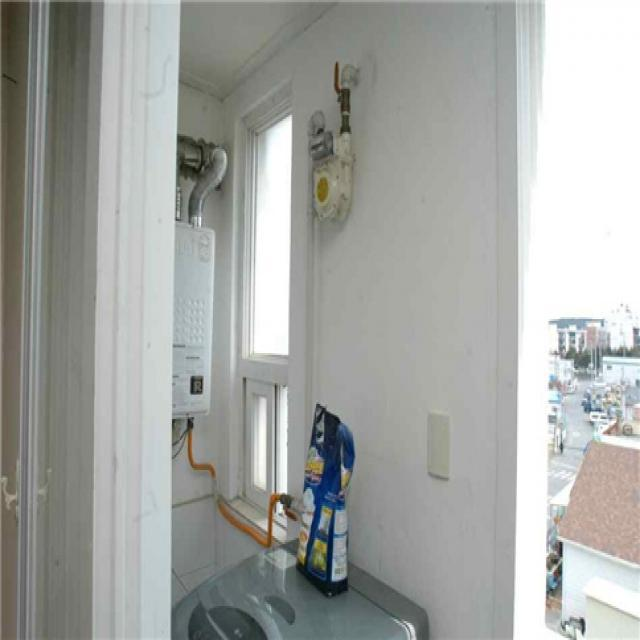Boiler: (80, 197, 232, 457)
